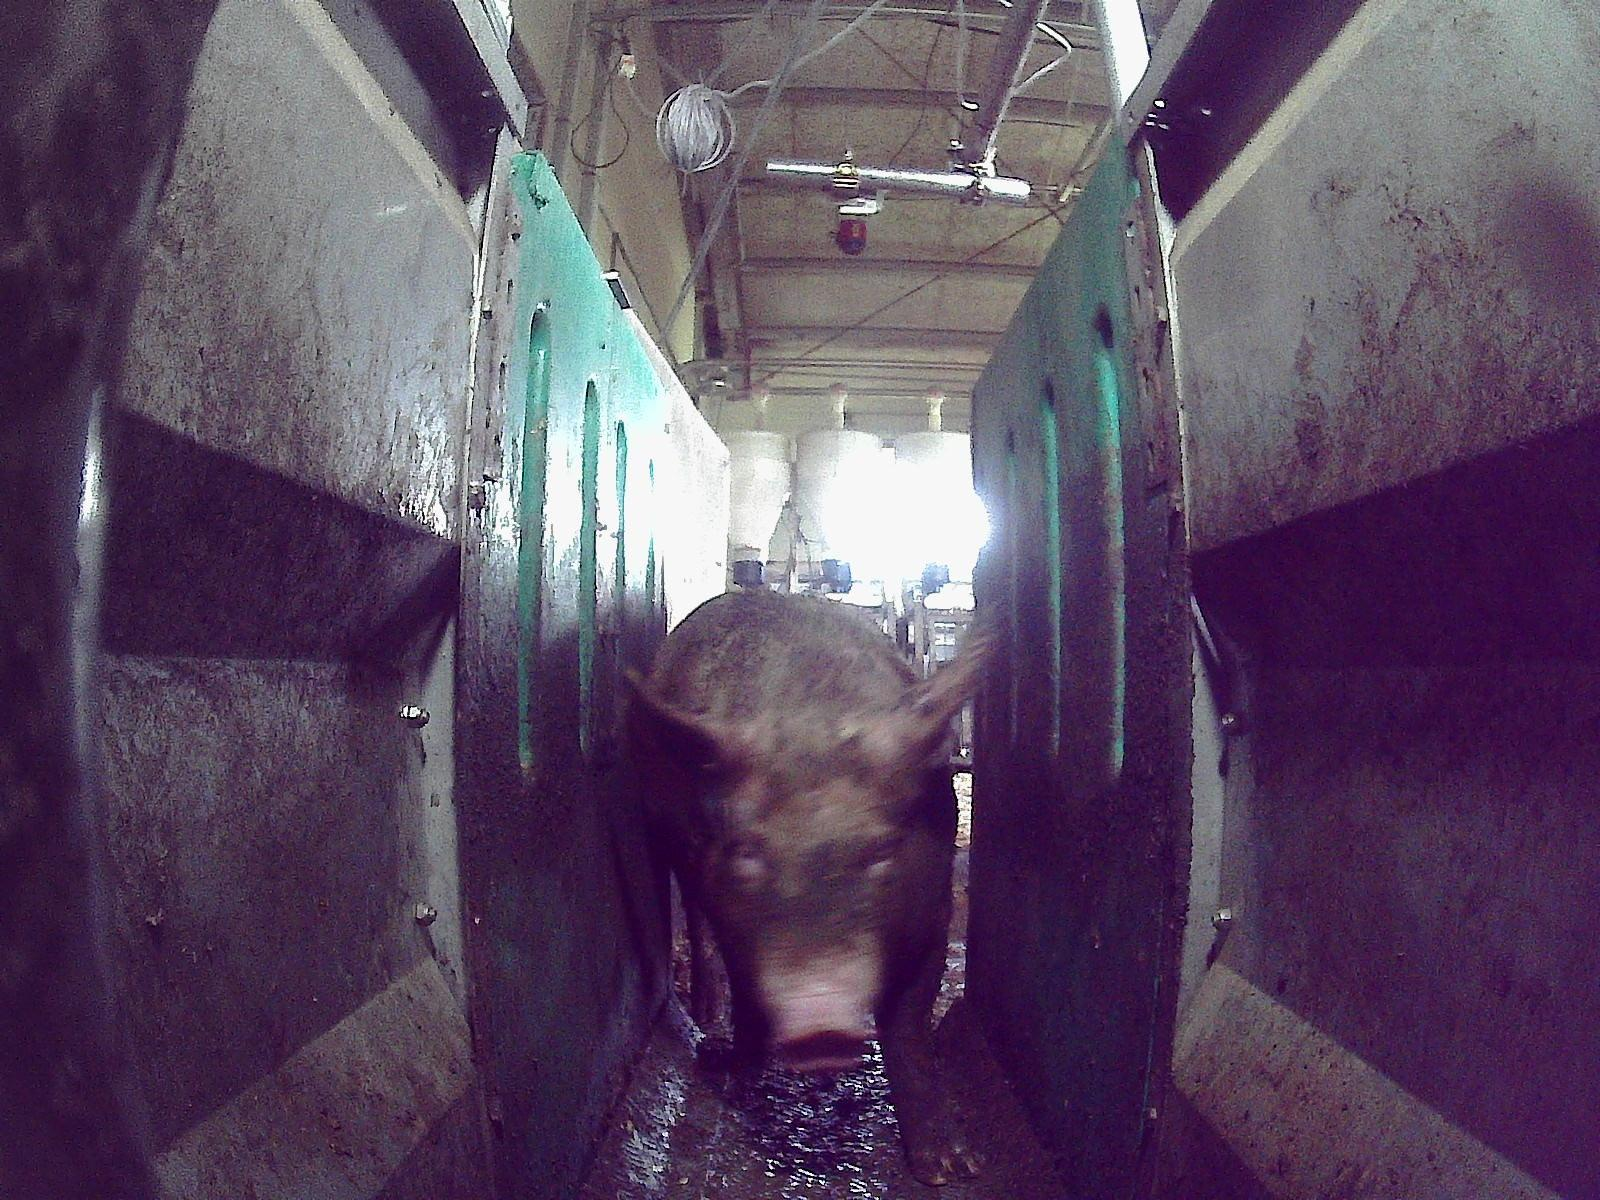Face: (705, 711, 902, 1069)
